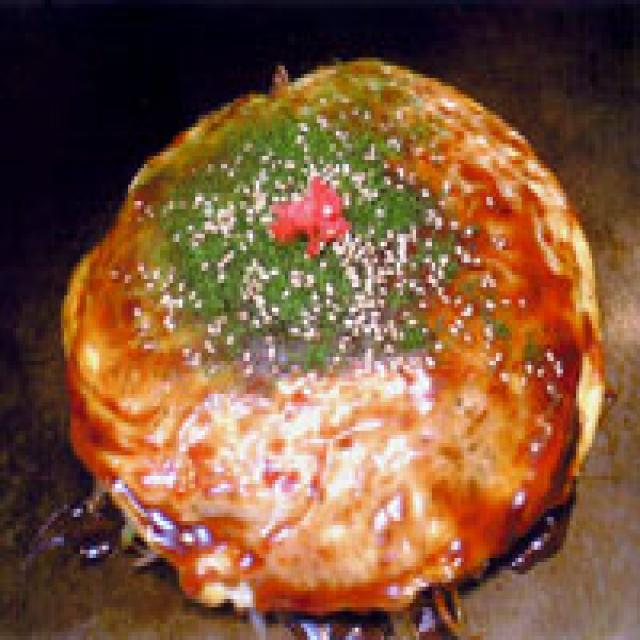蛋糕甜品: (51, 49, 611, 620)
